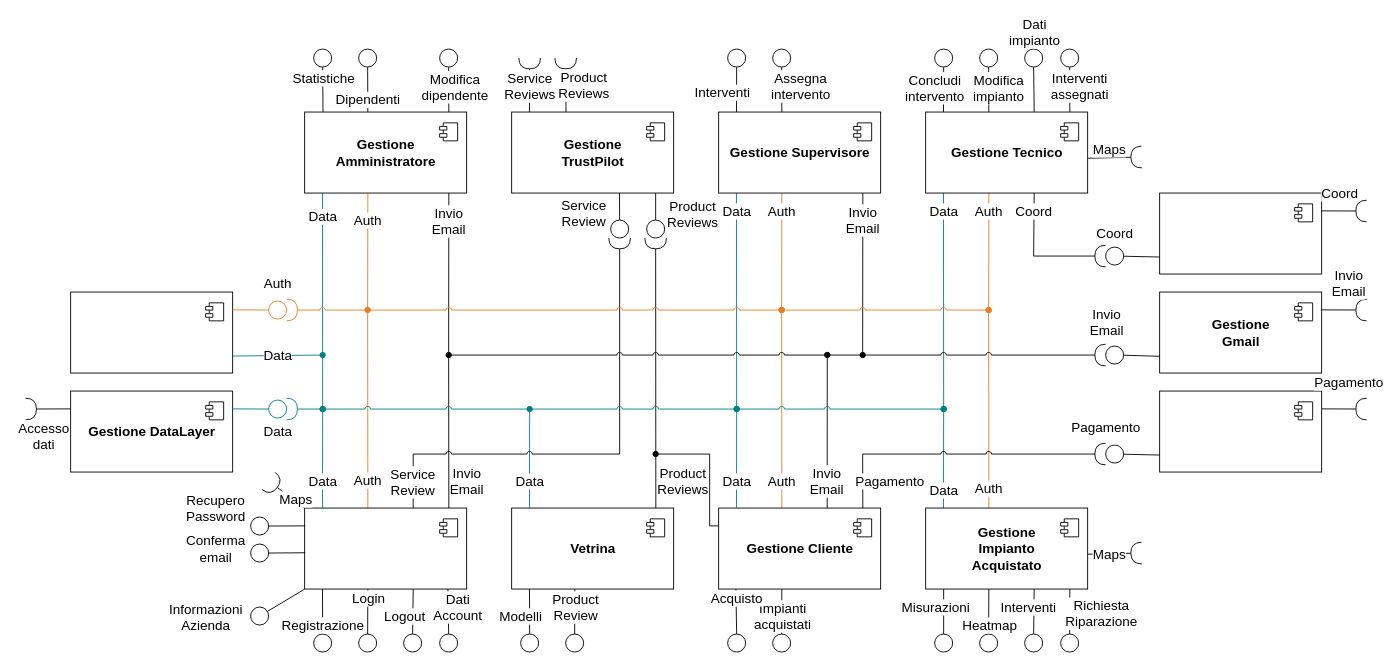
This 1400x668 diagram has some shape labels left out. The shapes that lost their labels are listed below. From the top down, each one's box as (x1, y1, x2, y2) in pixels, then its label:
(1159, 192, 1322, 274): Gestione GPS
(70, 291, 233, 373): Gestione Autenticazione
(1159, 390, 1322, 472): Gestione PayPal
(304, 507, 467, 589): Gestione Utente
